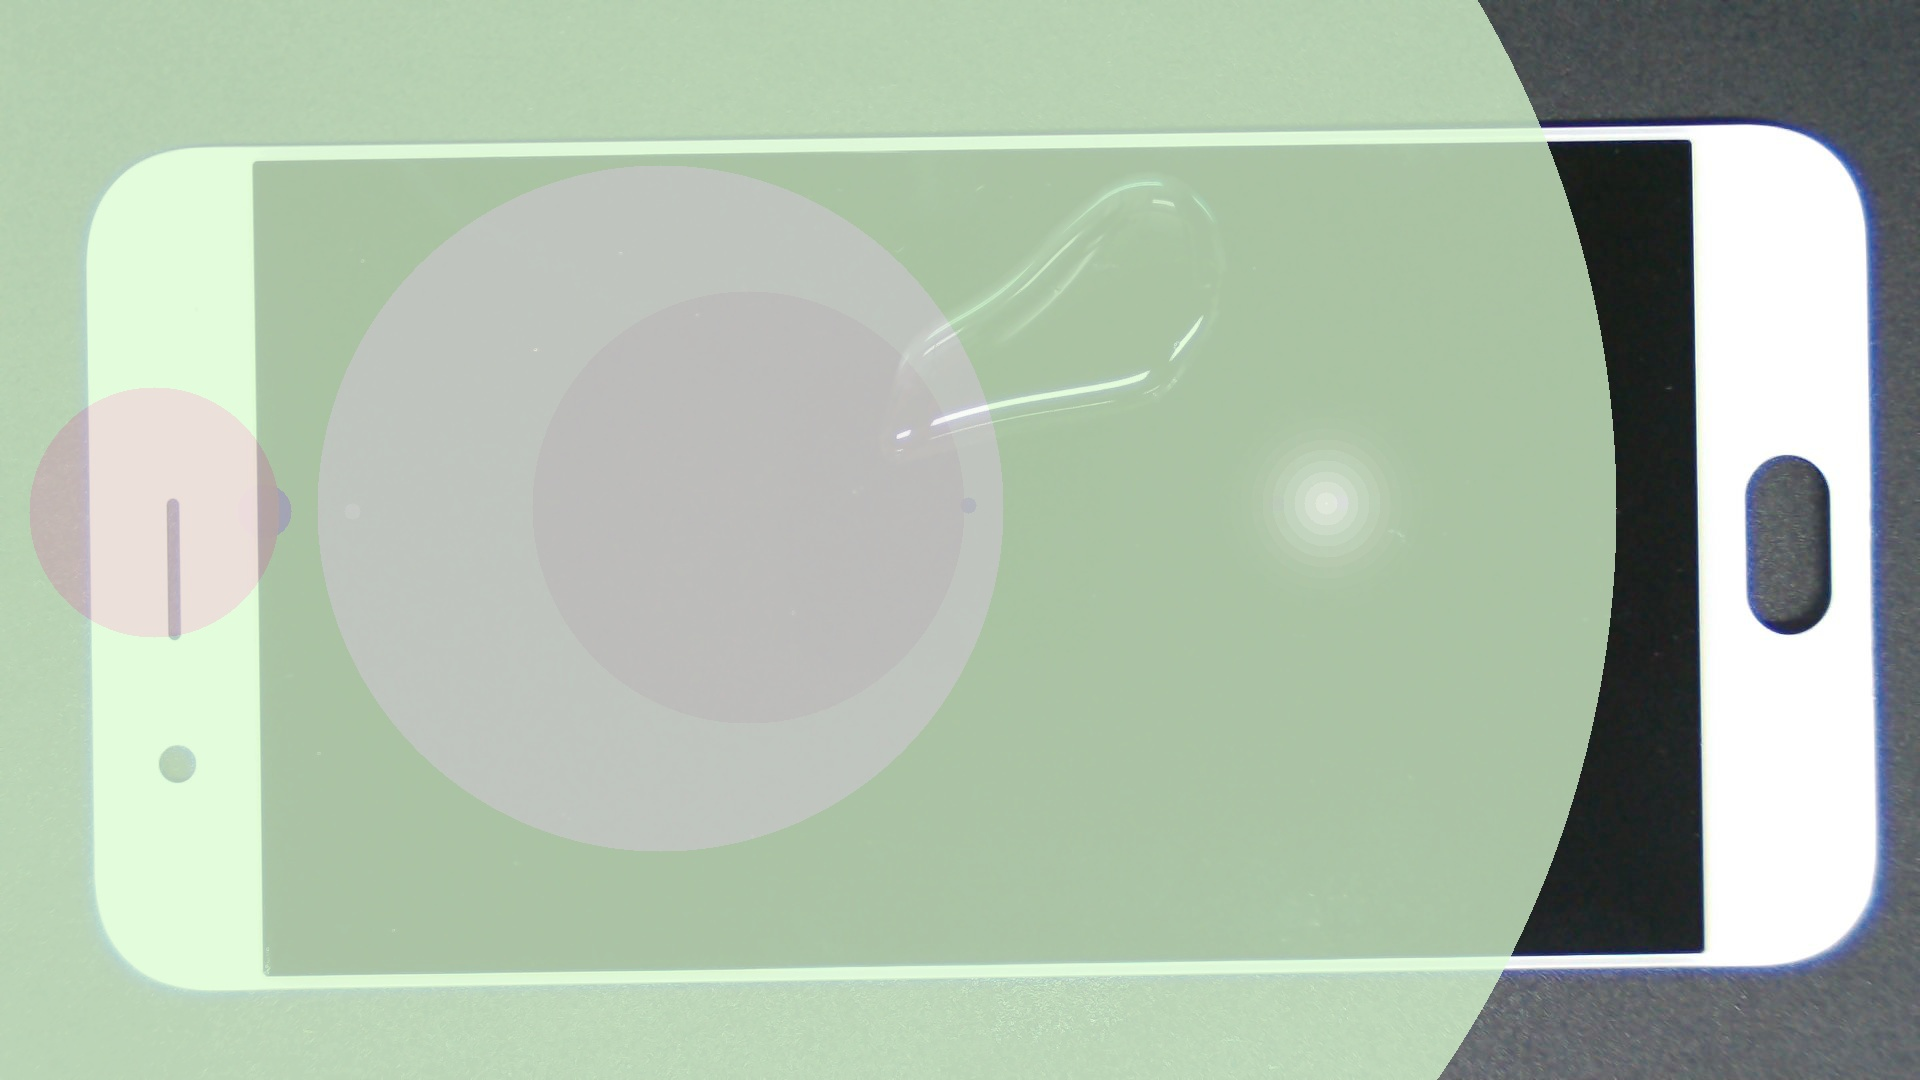oil: (574, 84, 1718, 257)
